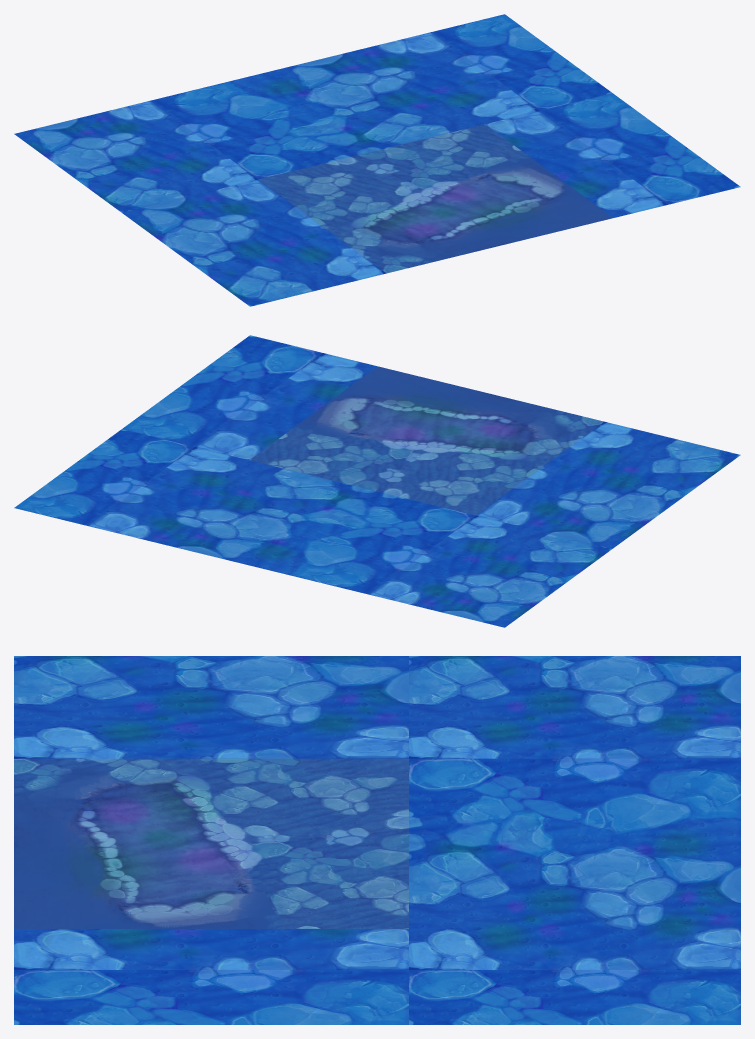
Rendered from Avatar_land_01.fbx.
3 views of the same model, one above another, from view 1: azimuth 30°, elevation 25°; view 2: azimuth 150°, elevation 25°; view 3: azimuth 270°, elevation 25° (orthographic). The views are drawn at different scales.
Visible parts, largest first — view 1: Avatar_land_01; view 2: Avatar_land_01; view 3: Avatar_land_01.
Boxes of the visible parts, box(x1,y1,x2,y2) form: Avatar_land_01: box(14, 14, 740, 306); Avatar_land_01: box(14, 335, 740, 627); Avatar_land_01: box(14, 656, 740, 1024).
Size of the model in its own units: 4183 by 0.000149 by 3486.
